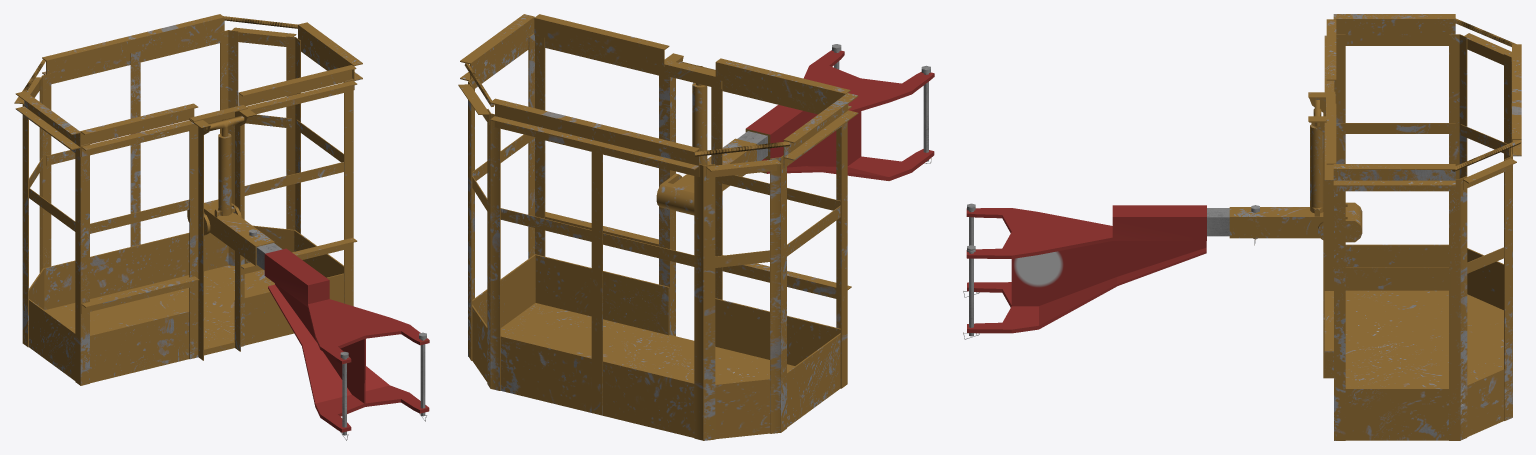
File: cage.glb
3 views of the same model, side by side, from view 1: azimuth 30°, elevation 25°; view 2: azimuth 150°, elevation 25°; view 3: azimuth 270°, elevation 25° (orthographic). The views are drawn at different scales.
Parts seen in each view (by area): view 1: Box001, cranepart, downtube, pinC, pinB; view 2: Box001, cranepart, downtube, pinB; view 3: Box001, cranepart, downtube.
Boxes of the visible parts, x1,y1,x2,y2 form: Box001: (14, 14, 362, 385); cranepart: (187, 199, 429, 432); downtube: (214, 133, 234, 217); pinC: (419, 332, 426, 416); pinB: (340, 351, 348, 435); Box001: (458, 14, 858, 440); cranepart: (656, 50, 934, 215); downtube: (692, 82, 707, 165); pinB: (921, 65, 930, 161); Box001: (1308, 14, 1521, 440); cranepart: (966, 202, 1362, 333); downtube: (1310, 124, 1323, 216).
Size of the model in its own units: 1.1 by 0.9145 by 1.67.
Materials: 1 (1 with a texture image).
